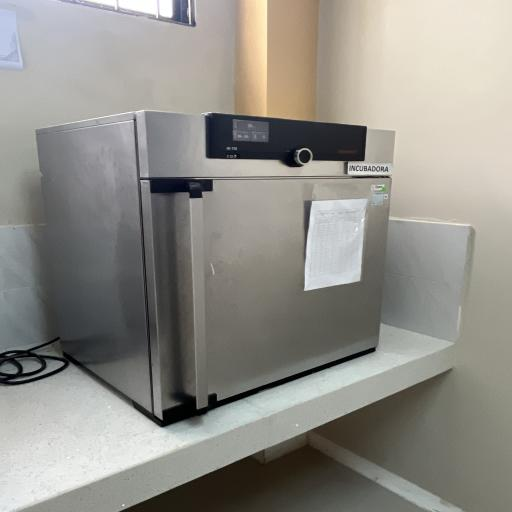Incubadora: (26, 101, 406, 436)
